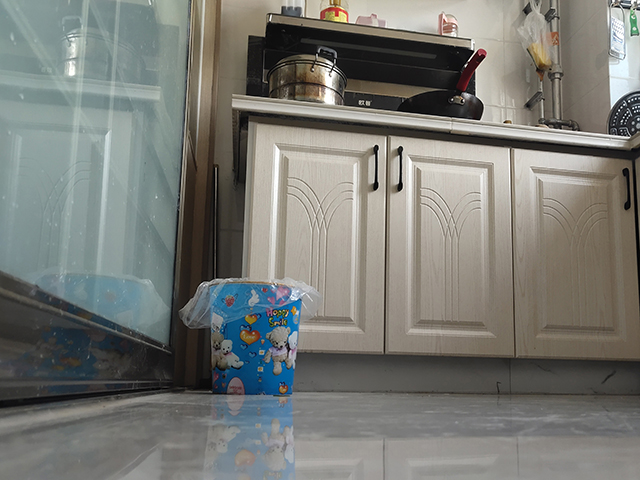cabinet: (228, 103, 634, 397)
trashcan: (207, 278, 305, 397)
